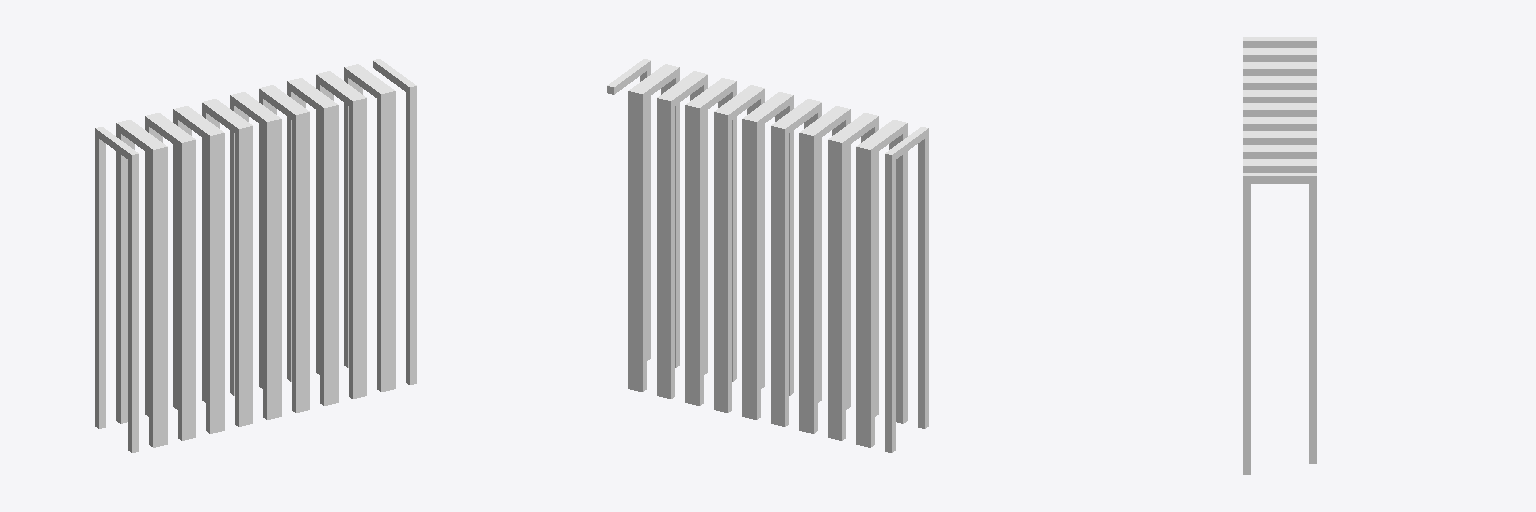
The model's file is DOORS-BARS.obj.
3 renders of one model, left to right at view 1: azimuth 30°, elevation 25°; view 2: azimuth 150°, elevation 25°; view 3: azimuth 270°, elevation 25°, orthographic.
Parts seen in each view (by area): view 1: object 1; view 2: object 1; view 3: object 1.
Part boxes in pixels (left/top/right/bottom): object 1: left=95, top=59, right=416, bottom=452; object 1: left=607, top=59, right=928, bottom=452; object 1: left=1243, top=37, right=1316, bottom=474.
Size of the model in its own units: 4 by 4 by 0.9.